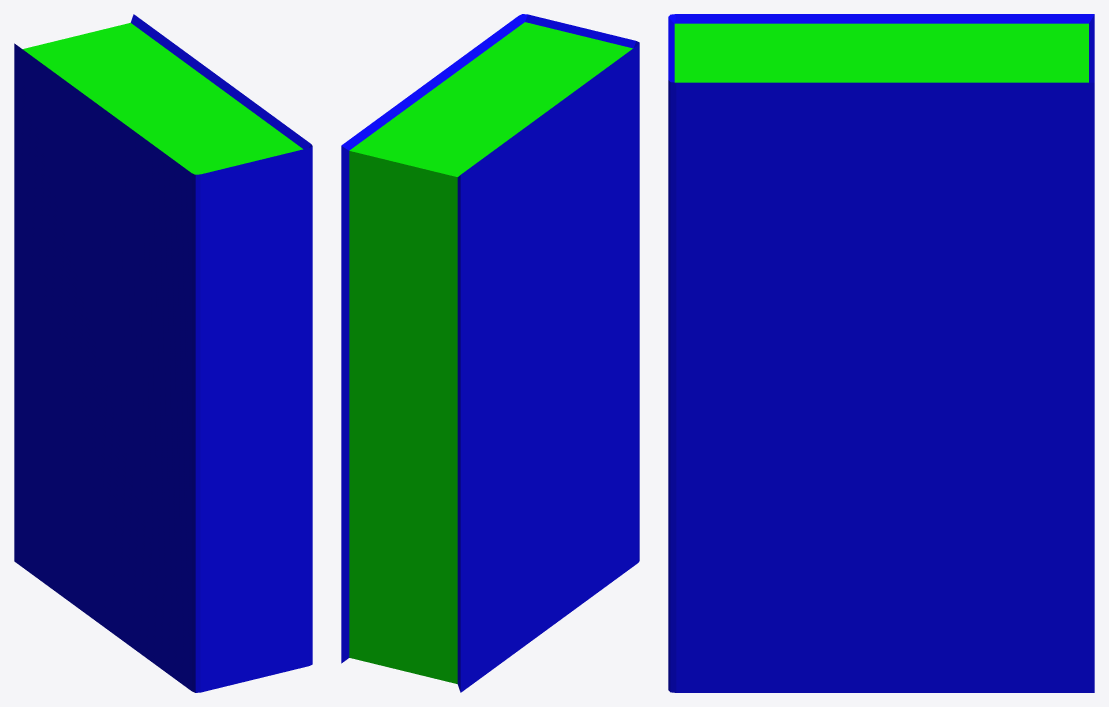
Rendered from Libro.fbx.
3 views of the same model, side by side, from view 1: azimuth 30°, elevation 25°; view 2: azimuth 150°, elevation 25°; view 3: azimuth 270°, elevation 25° (orthographic). The views are drawn at different scales.
Parts seen in each view (by area): view 1: Libro; view 2: Libro; view 3: Libro.
Part boxes in pixels (x1,y1,x2,y2): Libro: (14, 14, 312, 692); Libro: (341, 14, 639, 692); Libro: (668, 14, 1094, 692).
Bounding box in the file's own units: 6.03 × 24.99 × 15.83.
